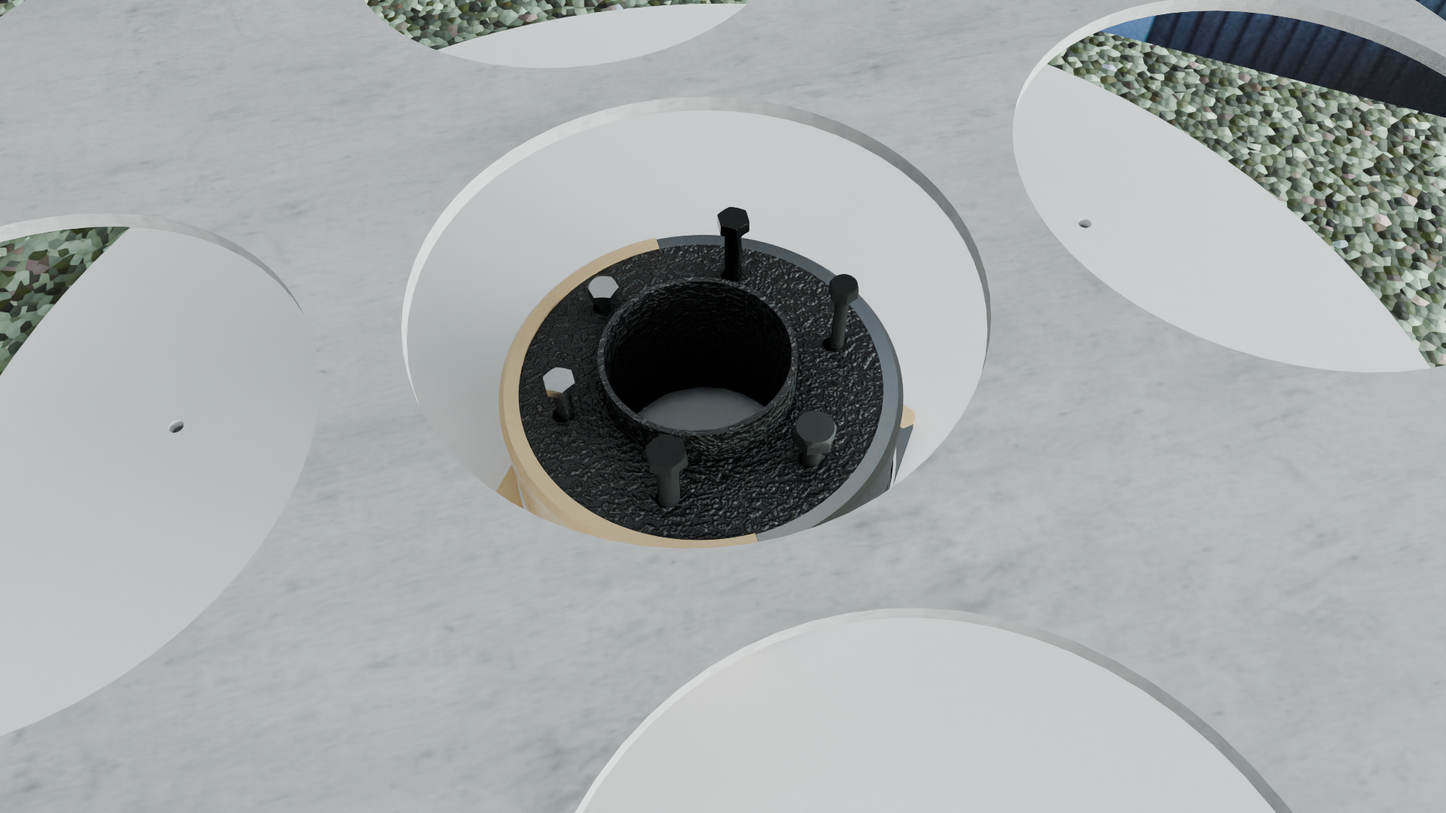bolt: (793, 411, 837, 447), (645, 434, 687, 470), (543, 367, 575, 393), (717, 206, 749, 231), (587, 276, 619, 298), (830, 274, 859, 297)
